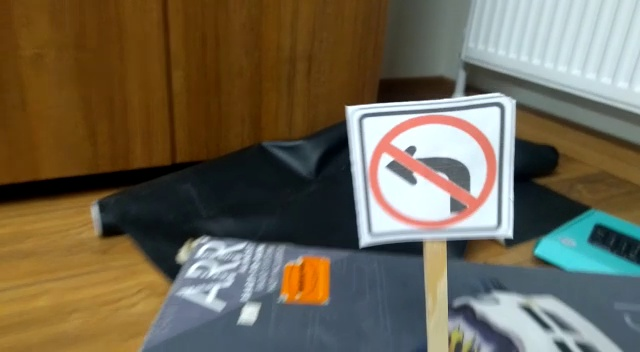sola_donulmez: (365, 98, 508, 233)
